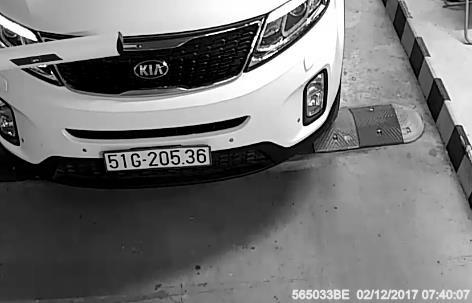License-plate: (99, 141, 217, 181)
